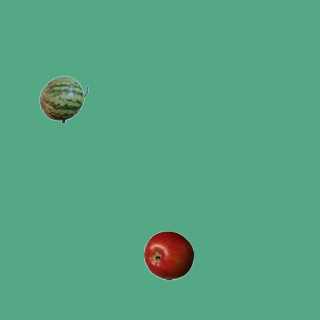Apple Braeburn: (143, 230, 193, 280)
Watermelon: (38, 74, 88, 124)
